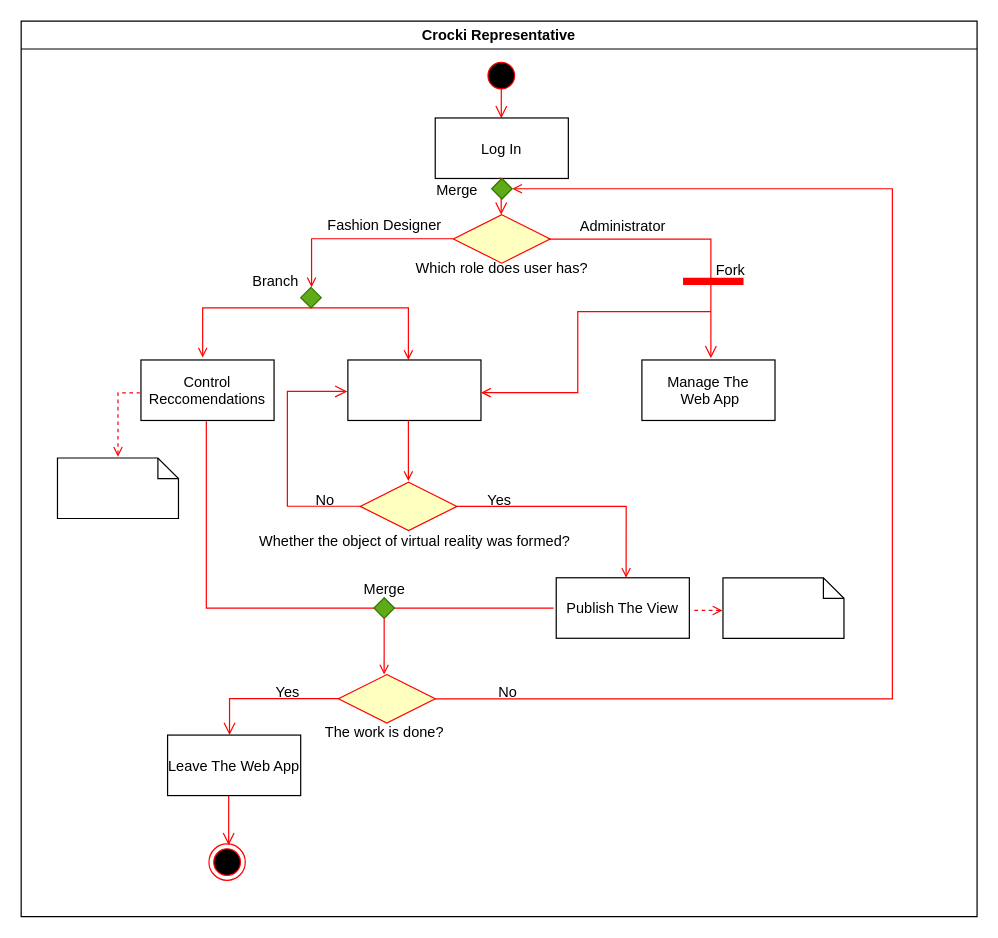
The diagram is 998 pixels wide and 938 high, and some of its shapes have lost their labels. Each missing label, with the centre of its shape:
"Augmented Reality View" belongs at point 783,607.
"Connections Between Clothes" belongs at point 117,487.
"Upload Clothes Data" belongs at point 414,389.
